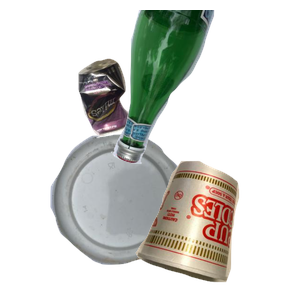glass: (109, 10, 300, 167)
metal: (75, 56, 198, 185)
plastic: (48, 132, 224, 300)
trash: (133, 158, 300, 300)
